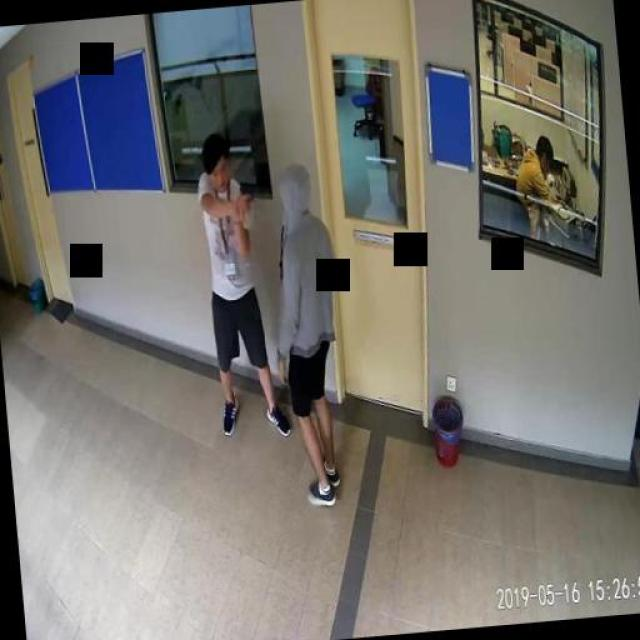gun: (237, 179, 265, 216)
